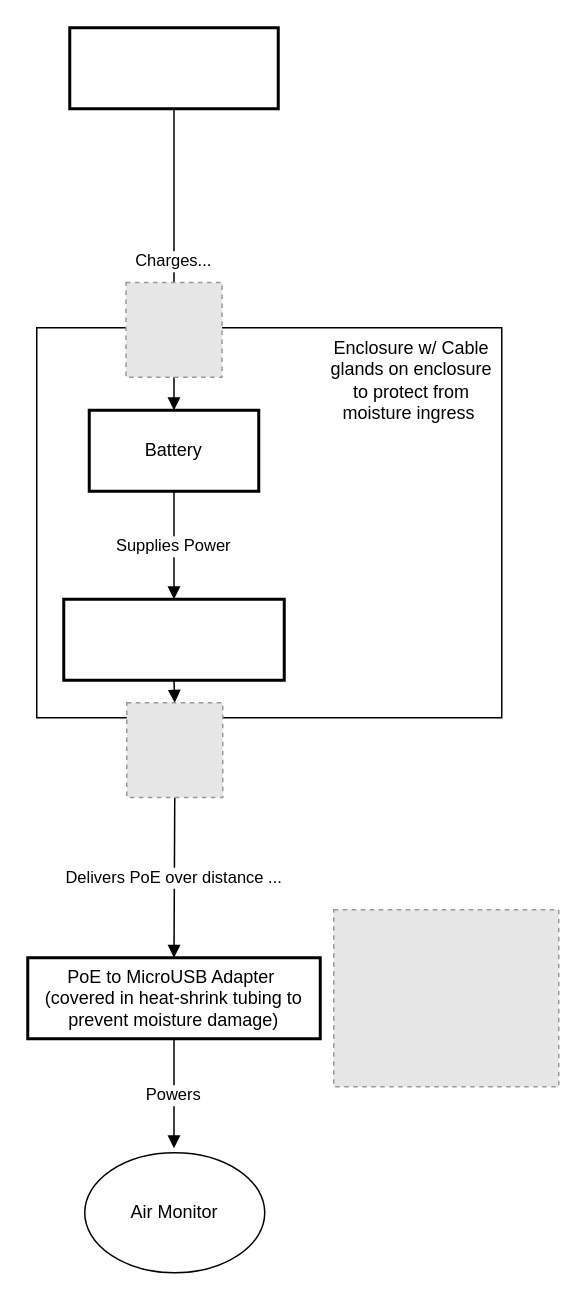
The diagram is 585 pixels wide and 1299 high, and some of its shapes have lost their labels. Grey dashed boxes stand in for pictures. Here are the shapes that lost their labels. From the top down, the centre of each, then its label:
At (173,68): "Solar Panel".
At (173,639): "PoE Injector".
